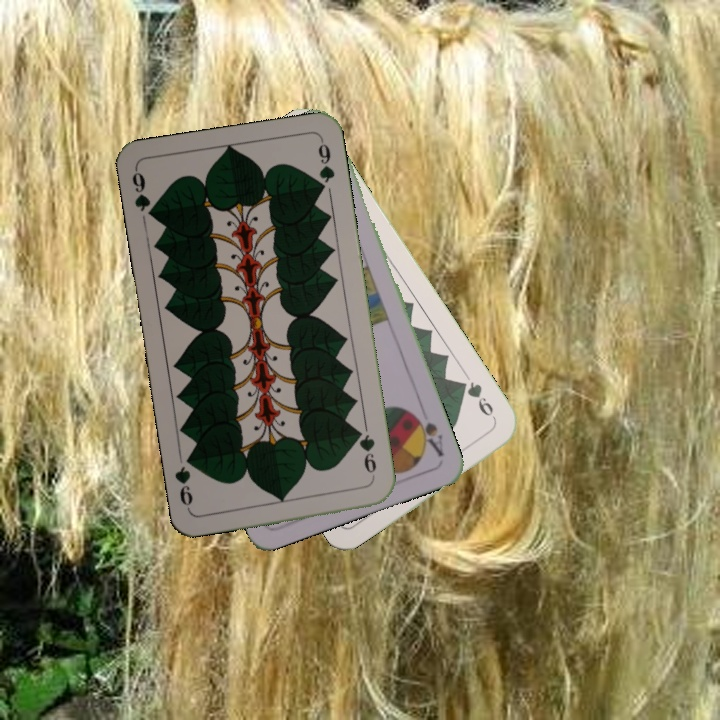G9: (455, 377, 500, 425), (128, 165, 159, 223), (352, 425, 379, 483)
SA: (408, 408, 446, 460)
